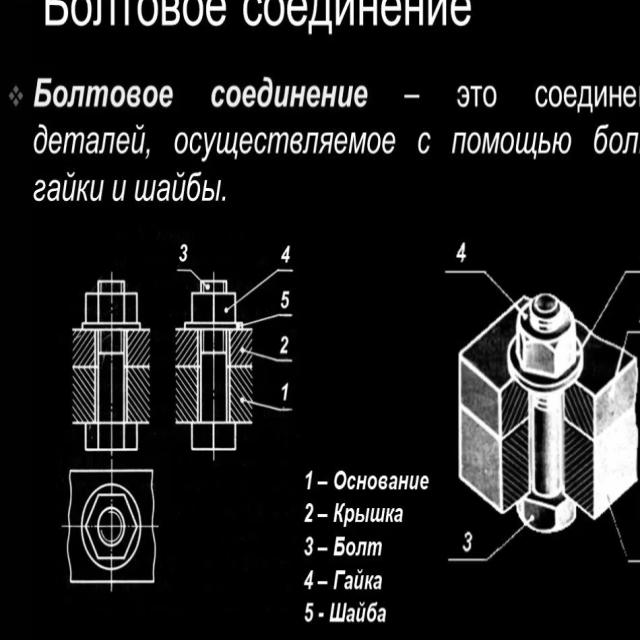numeric: (461, 530, 475, 554), (304, 500, 314, 524), (456, 241, 467, 262), (303, 535, 314, 556), (304, 601, 315, 622), (280, 244, 291, 265), (303, 569, 314, 588), (306, 465, 314, 490), (179, 243, 188, 263), (281, 380, 289, 401), (280, 334, 288, 354), (281, 290, 289, 309)
